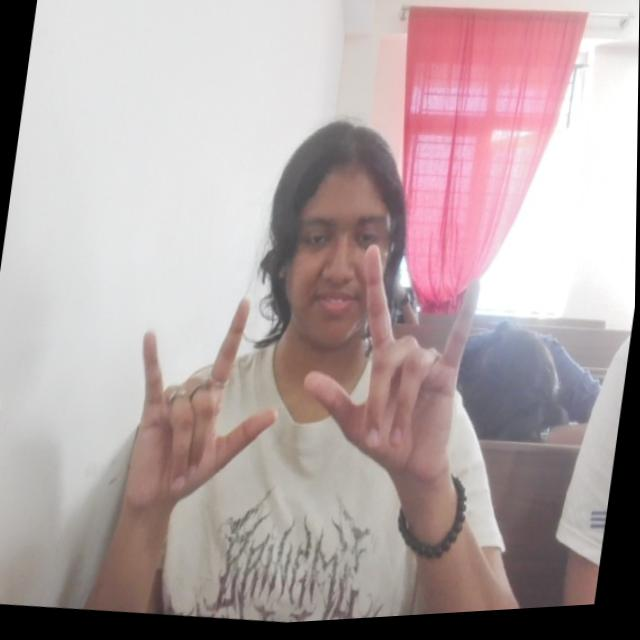iloveyou: (289, 236, 489, 494), (114, 283, 297, 530)
